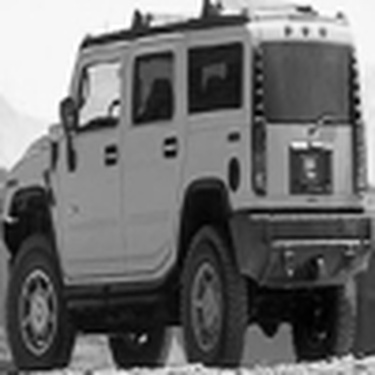car: (1, 3, 369, 372)
